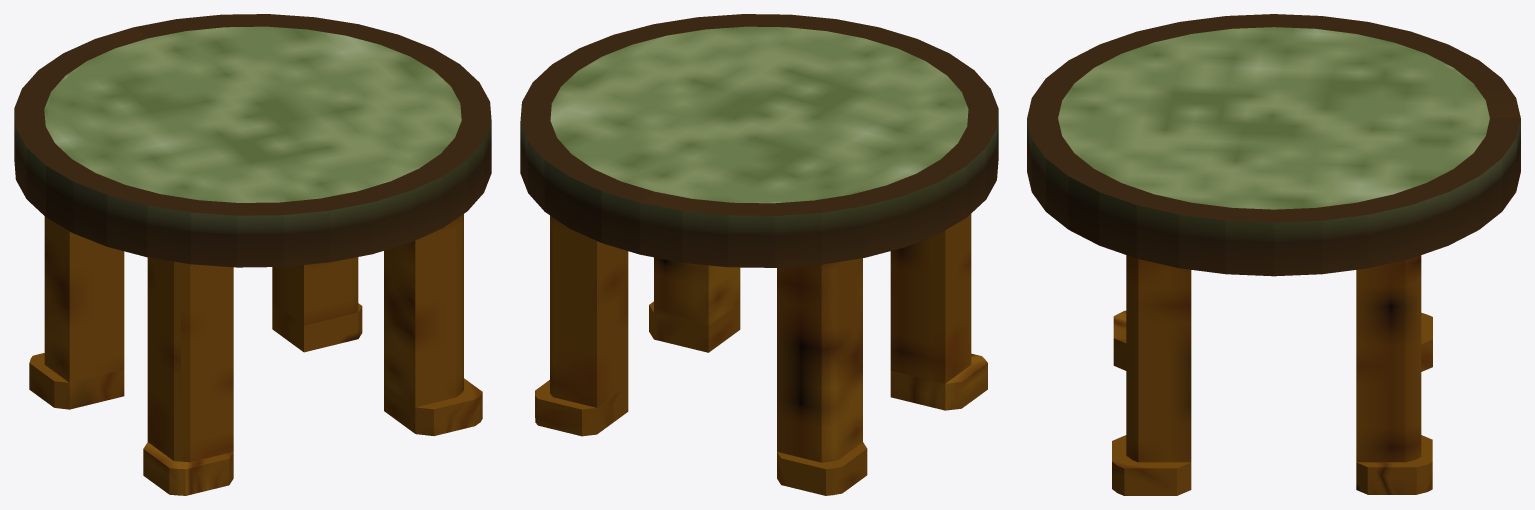
The model's file is table_633x02.obj.
3 views of the same model, side by side, from view 1: azimuth 30°, elevation 25°; view 2: azimuth 150°, elevation 25°; view 3: azimuth 270°, elevation 25° (orthographic). The views are drawn at different scales.
Parts seen in each view (by area): view 1: Table_633x2; view 2: Table_633x2; view 3: Table_633x2.
Part boxes in pixels (<box>): Table_633x2: <box>14,14,491,495</box>; Table_633x2: <box>520,14,998,495</box>; Table_633x2: <box>1027,14,1520,495</box>.
Bounding box in the file's own units: 3 × 2 × 3.
